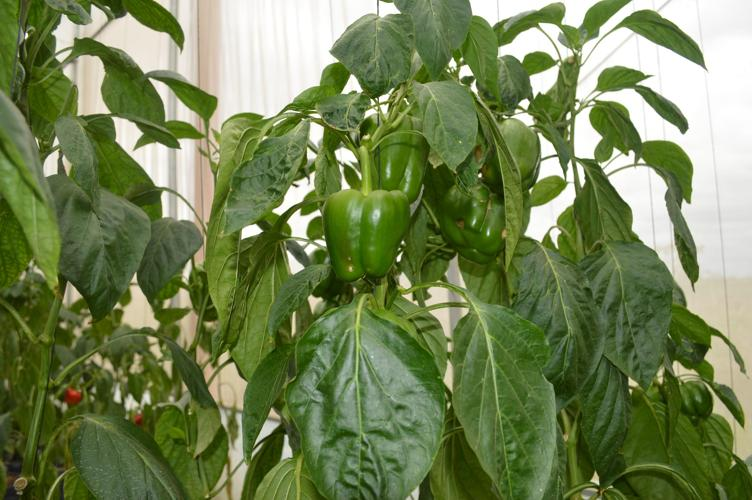BellPepper: (323, 193, 412, 282), (350, 109, 425, 197), (437, 188, 514, 261), (477, 110, 537, 187)
